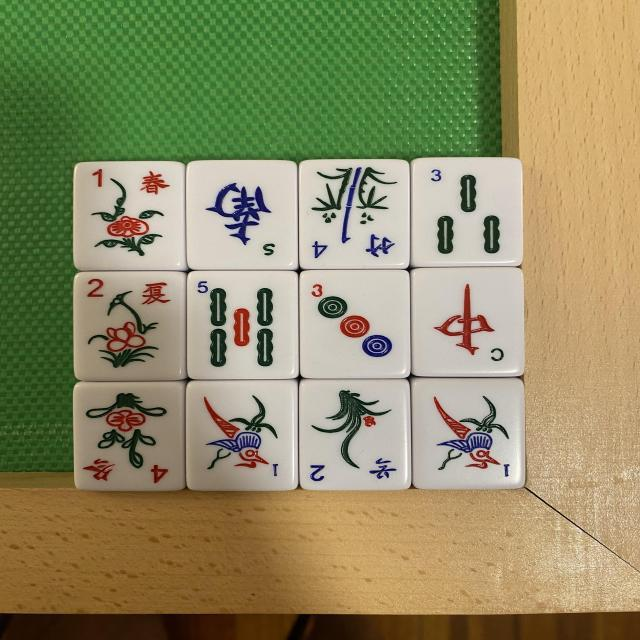bf2: (295, 380, 408, 490)
bf4: (300, 162, 410, 270)
bs1: (79, 166, 182, 270)
bs2: (77, 274, 189, 384)
bs4: (76, 382, 188, 491)
hdr: (413, 270, 526, 379)
hws: (186, 160, 295, 270)
sb1: (409, 378, 524, 491), (190, 380, 300, 492)
sb3: (410, 154, 520, 264)
sb5: (186, 274, 296, 382)
sd3: (306, 266, 414, 378)
